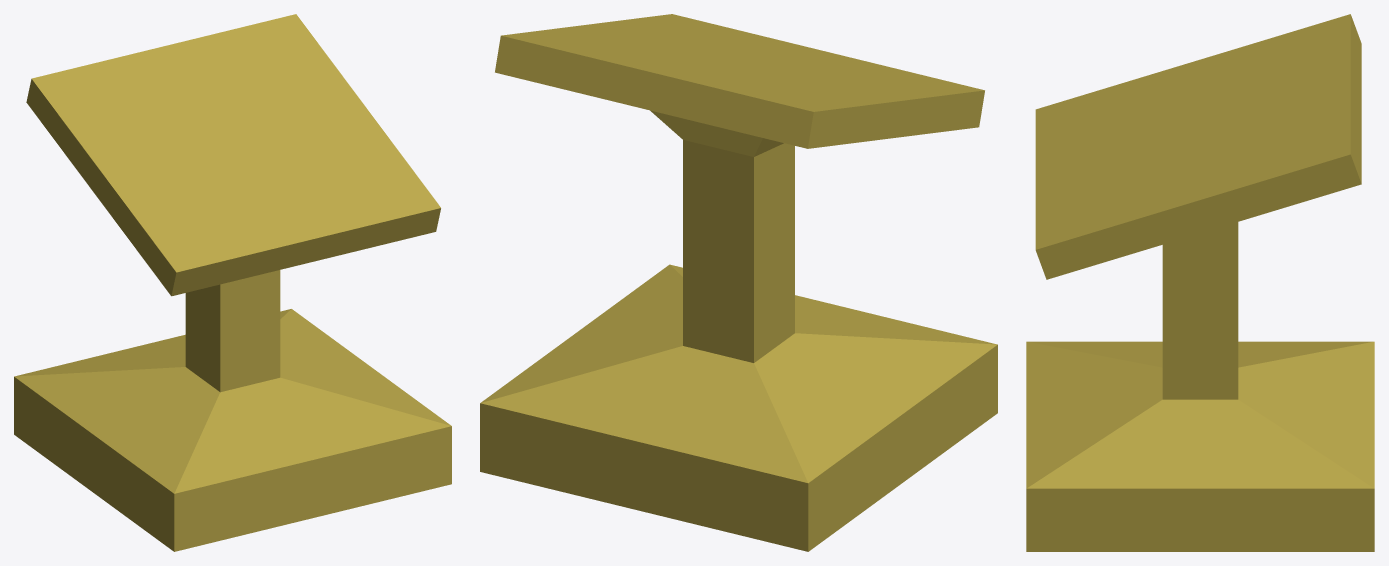
The model's file is lectern.glb.
3 views of the same model, side by side, from view 1: azimuth 30°, elevation 25°; view 2: azimuth 150°, elevation 25°; view 3: azimuth 270°, elevation 25° (orthographic). The views are drawn at different scales.
Parts seen in each view (by area): view 1: Cube.005; view 2: Cube.005; view 3: Cube.005.
Boxes of the visible parts, x1,y1,x2,y2 form: Cube.005: (14, 14, 451, 551); Cube.005: (480, 14, 997, 551); Cube.005: (1026, 14, 1374, 551).
Size of the model in its own units: 1 by 1.25 by 1.
